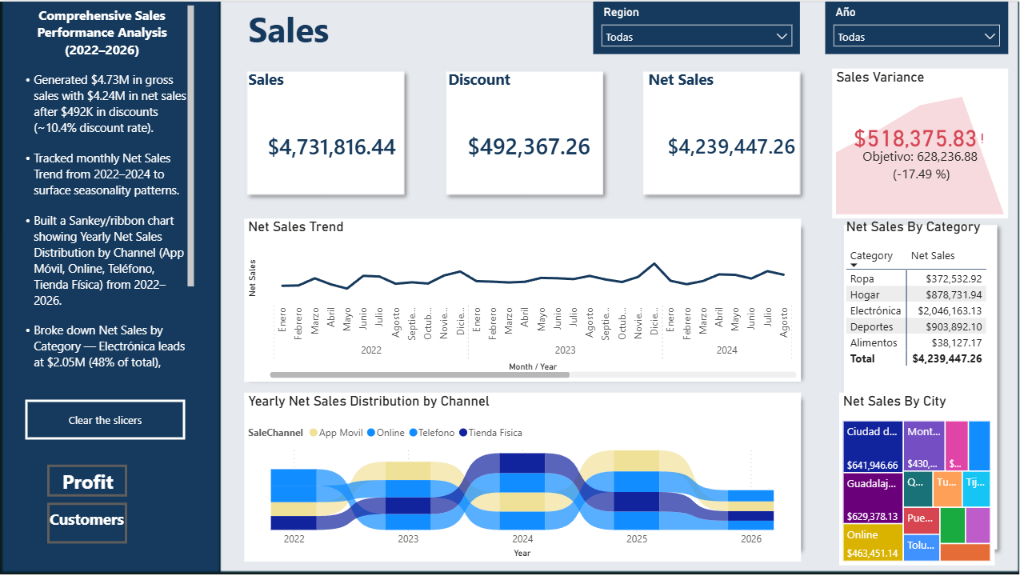

The page's visual inventory and layout, read from the dashboard file:
{"tool":"powerbi","page":{"name":"Sales","canvas":[1280,720],"ordinal":0},"visuals":[{"type":"textbox","box":[305.7,0,334.3,84.3],"z":0},{"type":"cardVisual","title":"Net Sales","fields":{"Data":["Medidas.Net Sales"]},"box":[805.7,84.3,227.1,154.3],"z":1000},{"type":"cardVisual","title":"Discount","fields":{"Data":["Mesures.Total Discount"]},"box":[555.7,84.3,231.4,154.3],"z":2000},{"type":"cardVisual","title":"Sales","fields":{"Data":["Mesures.Sales"]},"box":[305.7,84.3,230,154.3],"z":3000},{"type":"kpi","title":"Sales Variance","fields":{"Goal":["Mesures.Last Year Net Sales"],"Indicator":["Mesures.Net Sales"],"TrendLine":["Dates.Date.Variación.Jerarquía de fechas.Año"]},"box":[1041.4,84.3,220,187.1],"z":4000},{"type":"slicer","fields":{"Values":["Dates.Date.Variación.Jerarquía de fechas.Año"]},"box":[1032.9,0,228.6,65.7],"z":5000},{"type":"lineChart","title":"Net Sales Trend","fields":{"Category":["Dates.YearMonth.Variación.Jerarquía de fechas.Año","Dates.MonthName"],"Y":["Mesures.Net Sales"]},"box":[306,277.3,695.7,204.3],"z":6000},{"type":"pivotTable","title":"Net Sales By Category","fields":{"Rows":["Product.Category"],"Values":["Mesures.Net Sales"]},"box":[1054.3,271.4,194.3,217.1],"z":7000},{"type":"ribbonChart","title":"Yearly Net Sales Distribution by Channel","fields":{"Category":["Dates.Year"],"Series":["Sales.SaleChannel"],"Y":["Mesures.Net Sales"]},"box":[305.7,488.6,695.7,211.4],"z":8000},{"type":"slicer","fields":{"Values":["Stores.Region"]},"box":[742.9,0,258.6,65.7],"z":9000},{"type":"treemap","title":"Net Sales By City","fields":{"Details":["Stores.City"],"Values":["Mesures.Net Sales"]},"box":[1050,488.6,194.3,215.7],"z":10000},{"type":"actionButton","title":"cle","box":[32.9,497.8,200,50],"z":11000},{"type":"textbox","box":[35,579,151.4,55.7],"z":11000,"group":"g1"},{"type":"textbox","box":[33.8,628.8,151.2,81.1],"z":11000,"group":"g2"},{"type":"textbox","box":[16.2,0,232.5,466.2],"z":12000},{"type":"group","id":"g1","title":"Grupo 1","box":[35,579,151.4,55.7],"z":13000},{"type":"actionButton","box":[60.4,579,100,40],"z":14000,"group":"g1"},{"type":"group","id":"g2","title":"Grupo 1","box":[33.8,626.2,151.2,83.8],"z":14000},{"type":"actionButton","box":[60,626.2,100,51.2],"z":14000,"group":"g2"},{"type":"clusteredColumnChart","fields":{"Y":["Mesures.Net Sales By Category"]},"box":[33,548,200,152],"z":15000}]}

Visuals, with their boxes in screenshot pixels (x1, y1, x2, y2), scaled from the page's 1280x720 canvas onto the 1020x575 screenshot:
textbox: [244,0,510,67]
"Net Sales" cardVisual: [642,67,823,191]
"Discount" cardVisual: [443,67,627,191]
"Sales" cardVisual: [244,67,427,191]
"Sales Variance" kpi: [830,67,1005,217]
slicer - Dates.Date.Variación.Jerarquía de fechas.Año: [823,0,1005,52]
"Net Sales Trend" lineChart: [244,221,798,385]
"Net Sales By Category" pivotTable: [840,217,995,390]
"Yearly Net Sales Distribution by Channel" ribbonChart: [244,390,798,559]
slicer - Stores.Region: [592,0,798,52]
"Net Sales By City" treemap: [837,390,992,562]
"cle" actionButton: [26,398,186,437]
textbox: [28,462,149,507]
textbox: [27,502,147,567]
textbox: [13,0,198,372]
"Grupo 1" group: [28,462,149,507]
actionButton: [48,462,128,494]
"Grupo 1" group: [27,500,147,567]
actionButton: [48,500,128,541]
clusteredColumnChart - Mesures.Net Sales By Category: [26,438,186,559]
